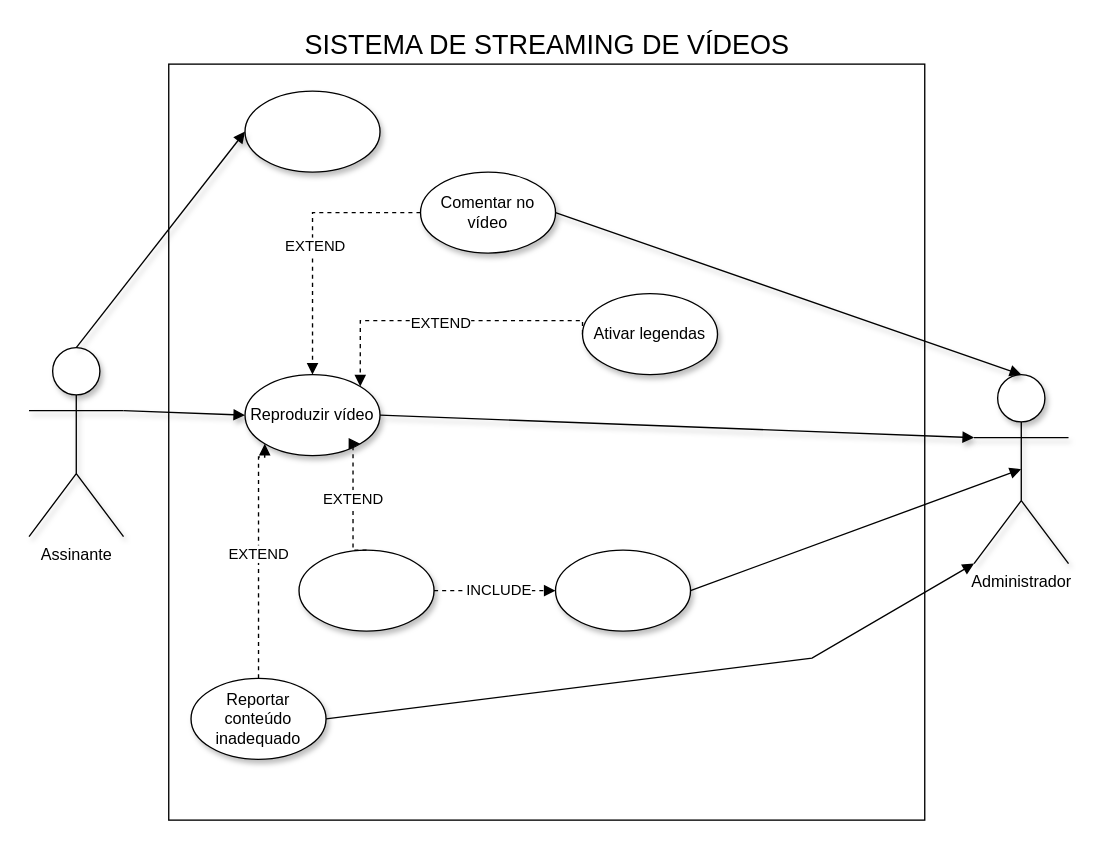
The diagram is 1100 pixels wide and 844 high, and some of its shapes have lost their labels. The shapes that lost their labels are listed below. From the top down, each one's centre as x and y in pixels, then its label:
(x=313, y=133): Fazer Login
(x=367, y=592): Fazer download
(x=624, y=592): Verificar assinatura premium
